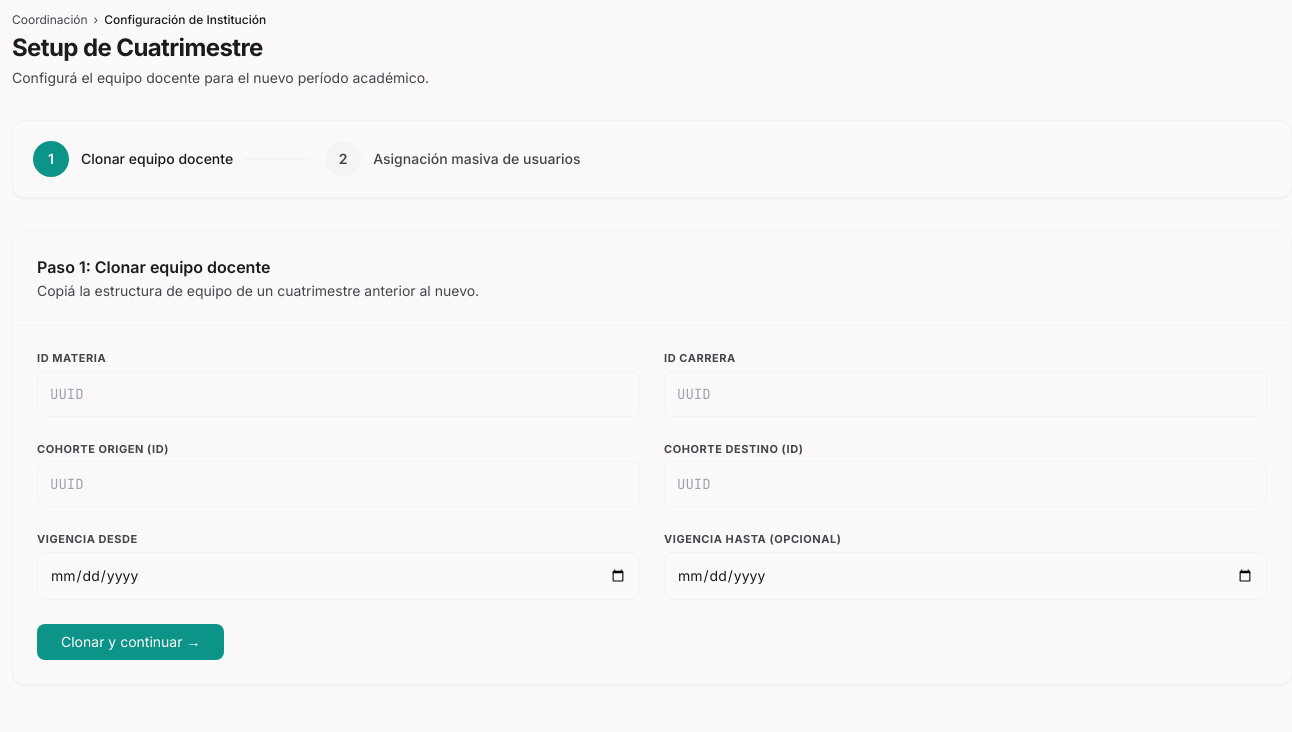
Scenario: SetupCuatrimestrePage › valida campos vacíos en paso 1
Click the button "Clonar y continuar →" at [131, 642], box 37,624 -> 224,660
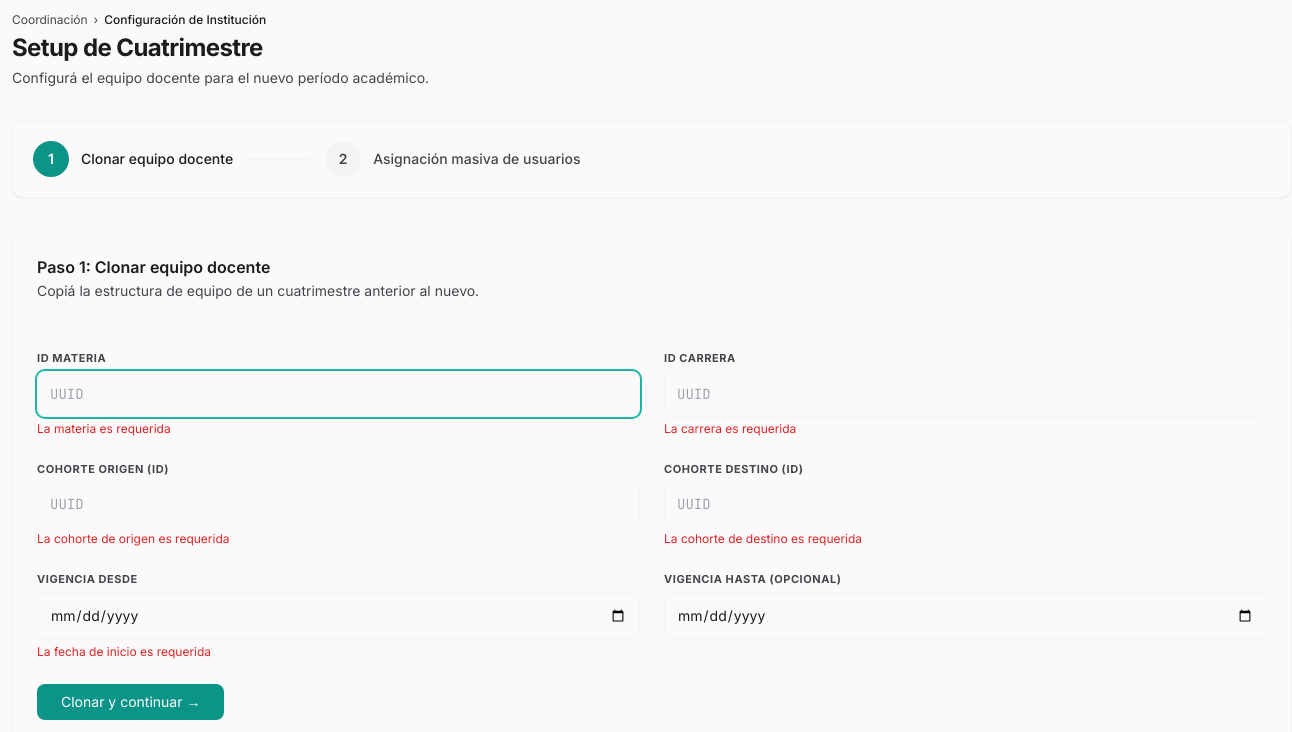
expect the message "La materia es requerida" is shown: met, box 37,420 -> 171,436
